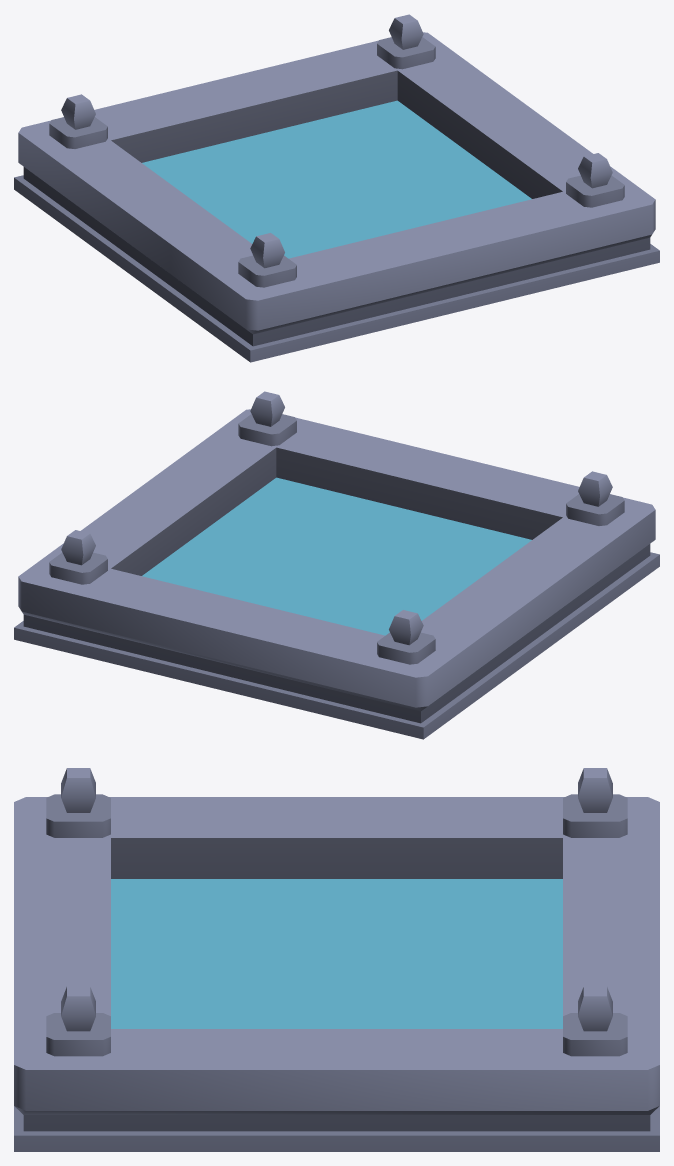
The model's file is fountain-square.glb.
The picture shows the model from 3 angles, top to bottom: view 1: azimuth 30°, elevation 25°; view 2: azimuth 150°, elevation 25°; view 3: azimuth 270°, elevation 25°; orthographic projection. The views are drawn at different scales.
Visible parts, largest first — view 1: fountain-square; view 2: fountain-square; view 3: fountain-square.
Part boxes in pixels (left/top/right/bottom): fountain-square: left=14, top=14, right=659, bottom=362; fountain-square: left=14, top=391, right=659, bottom=739; fountain-square: left=14, top=768, right=659, bottom=1151.
Size of the model in its own units: 2 by 0.4552 by 2.
